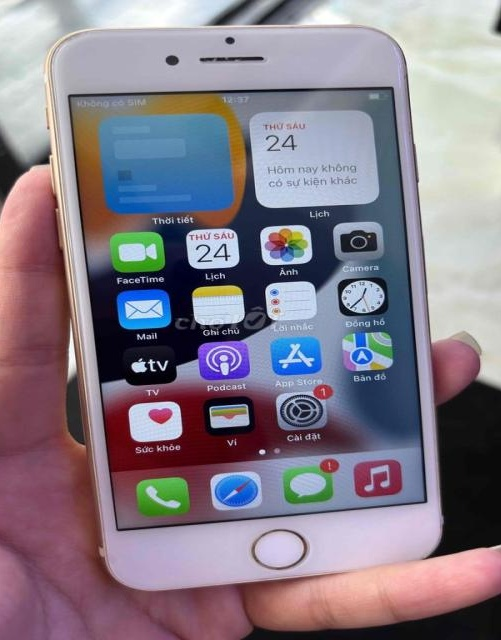scratch: (196, 49, 267, 64)
